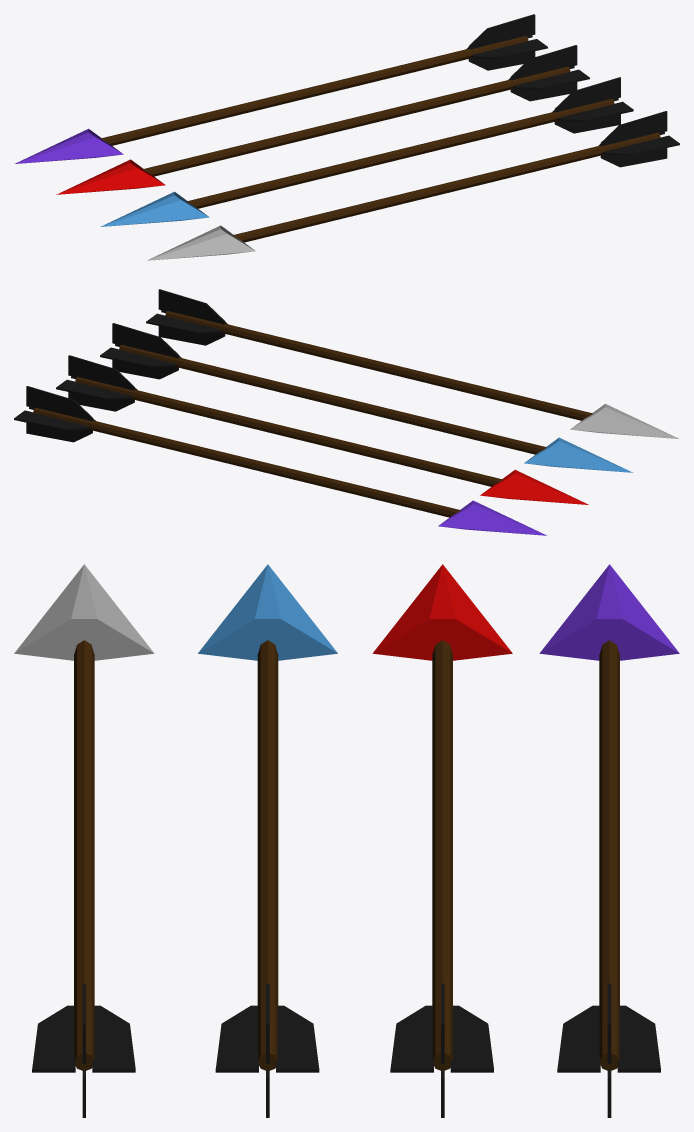
Rendered from arrows.fbx.
The picture shows the model from 3 angles, top to bottom: view 1: azimuth 30°, elevation 25°; view 2: azimuth 150°, elevation 25°; view 3: azimuth 270°, elevation 25°; orthographic projection. The views are drawn at different scales.
Visible parts, largest first — view 1: Iron_Arrow, Fire_Arrow, Ice_Arrow, Poison_Arrow; view 2: Iron_Arrow, Poison_Arrow, Ice_Arrow, Fire_Arrow; view 3: Ice_Arrow, Poison_Arrow, Iron_Arrow, Fire_Arrow.
Part boxes in pixels (x1,y1,x2,y2): Iron_Arrow: (147, 111, 679, 260); Fire_Arrow: (56, 45, 589, 194); Ice_Arrow: (100, 77, 633, 226); Poison_Arrow: (15, 14, 547, 163); Iron_Arrow: (146, 289, 678, 438); Poison_Arrow: (14, 386, 547, 535); Ice_Arrow: (100, 323, 633, 472); Fire_Arrow: (56, 355, 588, 504); Ice_Arrow: (198, 564, 337, 1117); Poison_Arrow: (539, 564, 679, 1117); Iron_Arrow: (14, 564, 154, 1117); Fire_Arrow: (372, 564, 512, 1117).
Bounding box in the file's own units: 0.8586 × 0.0742 × 0.4784.
